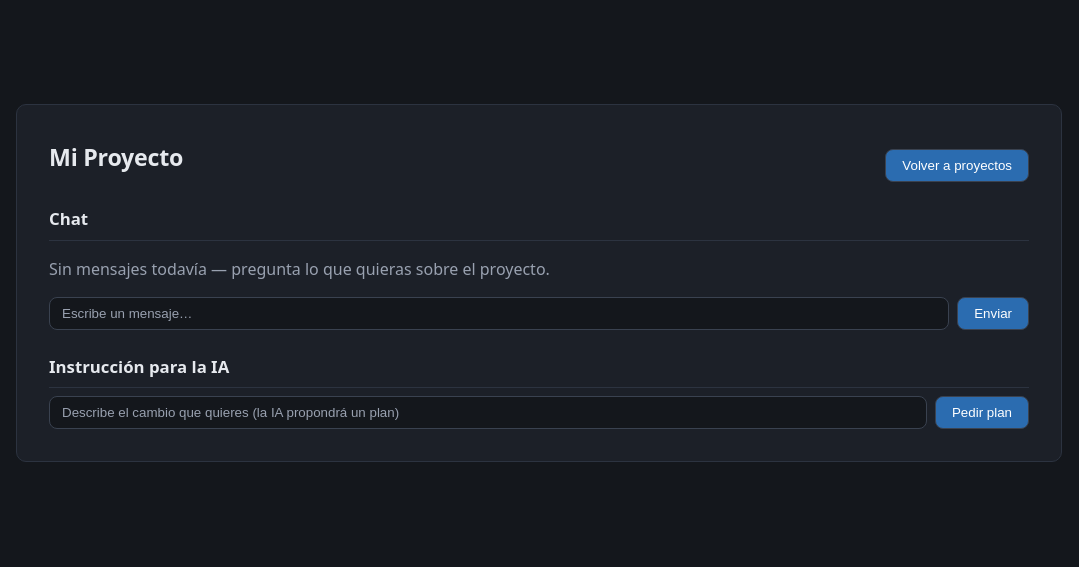
Test: VistaWorkspace › pide un plan a la IA, lo muestra y lo ejecuta al aprobar
In the field named "instrucción para la IA": (488, 412) [49,396,927,429], type "agrega un saludo"
Then press Enter
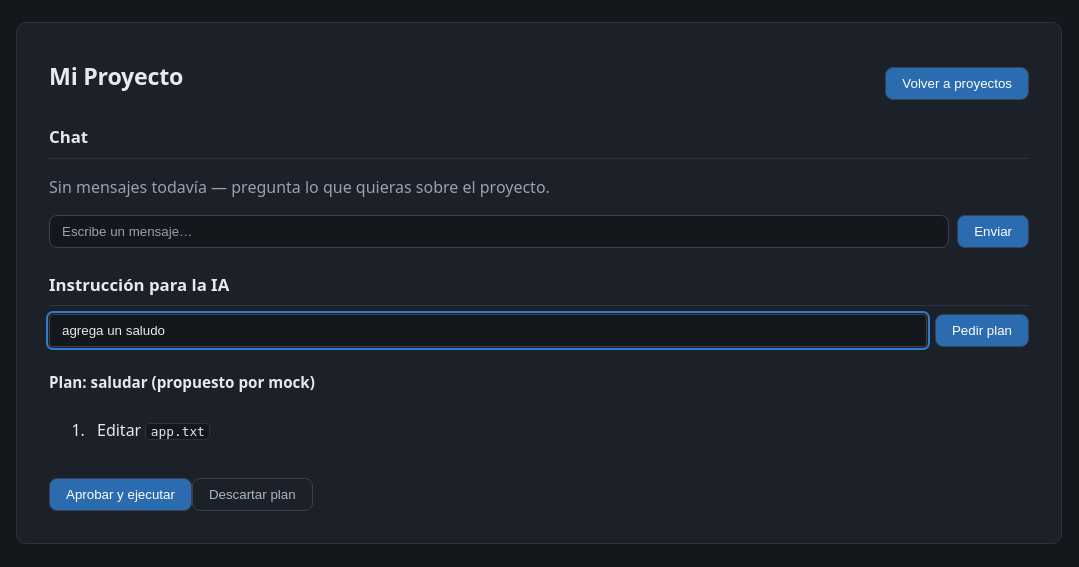
Check: the heading "Plan: saludar (propuesto por mock)" is shown, box [49,372,315,392]
Click the button "Aprobar y ejecutar": (120, 494) [49,478,192,511]
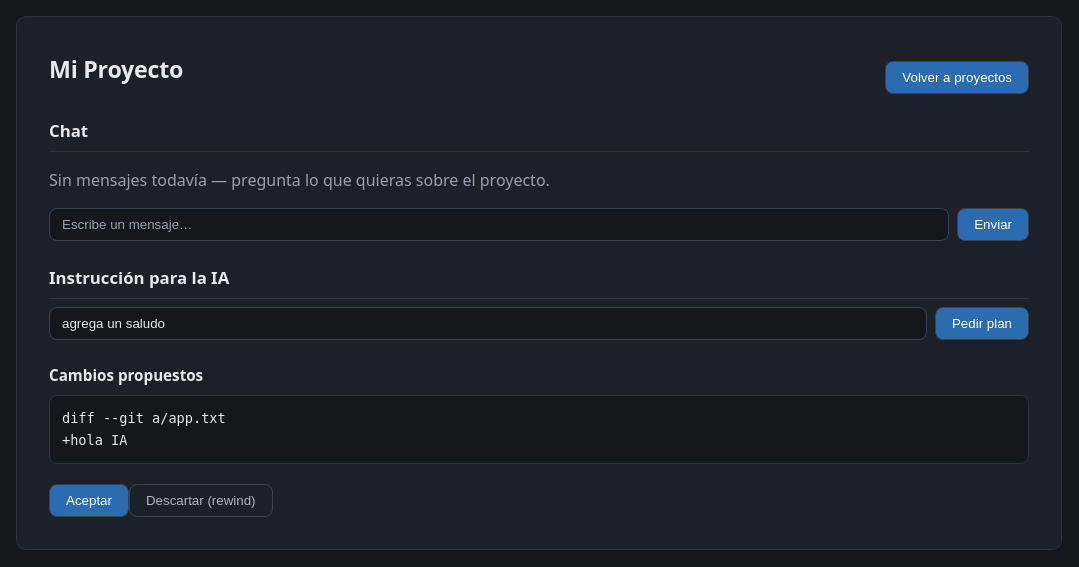
Check: the element with test id "panel-diff" is shown, box [49,364,1029,517]
Check: the element with test id "panel-diff" shows "+hola IA", box [62,410,226,448]
